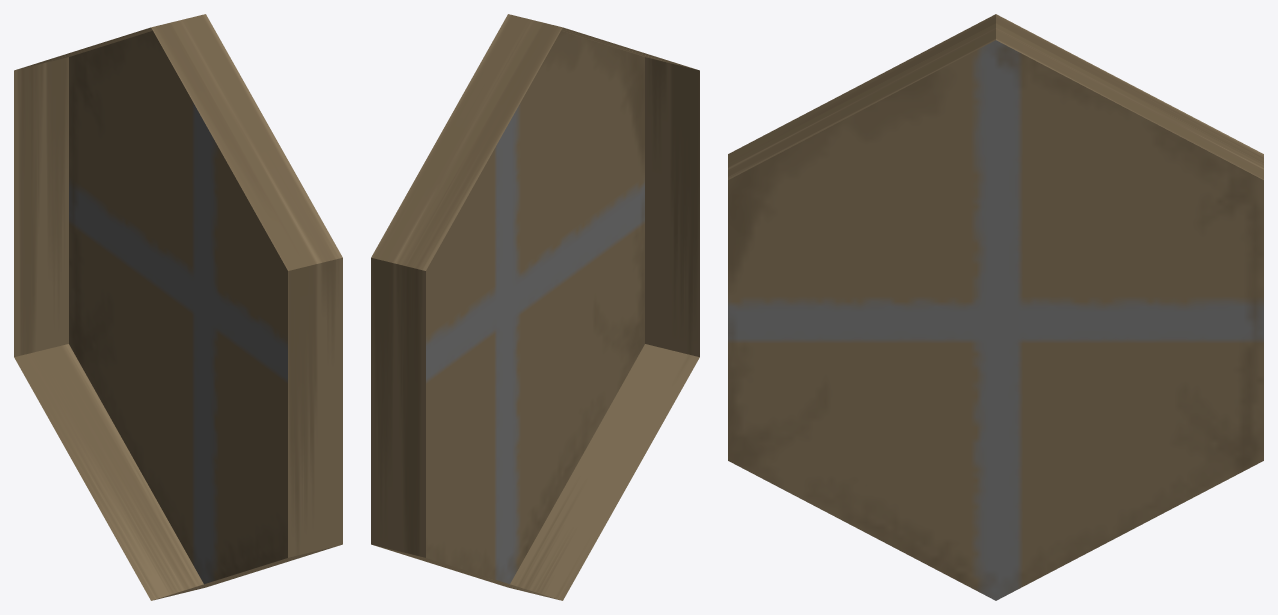
The model's file is ClockObject.fbx.
The picture shows the model from 3 angles, left to right: view 1: azimuth 30°, elevation 25°; view 2: azimuth 150°, elevation 25°; view 3: azimuth 270°, elevation 25°; orthographic projection. The views are drawn at different scales.
Visible parts, largest first — view 1: clockObject; view 2: clockObject; view 3: clockObject.
Part boxes in pixels (<box>): clockObject: <box>14,14,342,600</box>; clockObject: <box>371,14,699,600</box>; clockObject: <box>728,14,1263,600</box>.
Bounding box in the file's own units: 0.003 × 0.03 × 0.026.
Materials: 1 (1 with a texture image).
